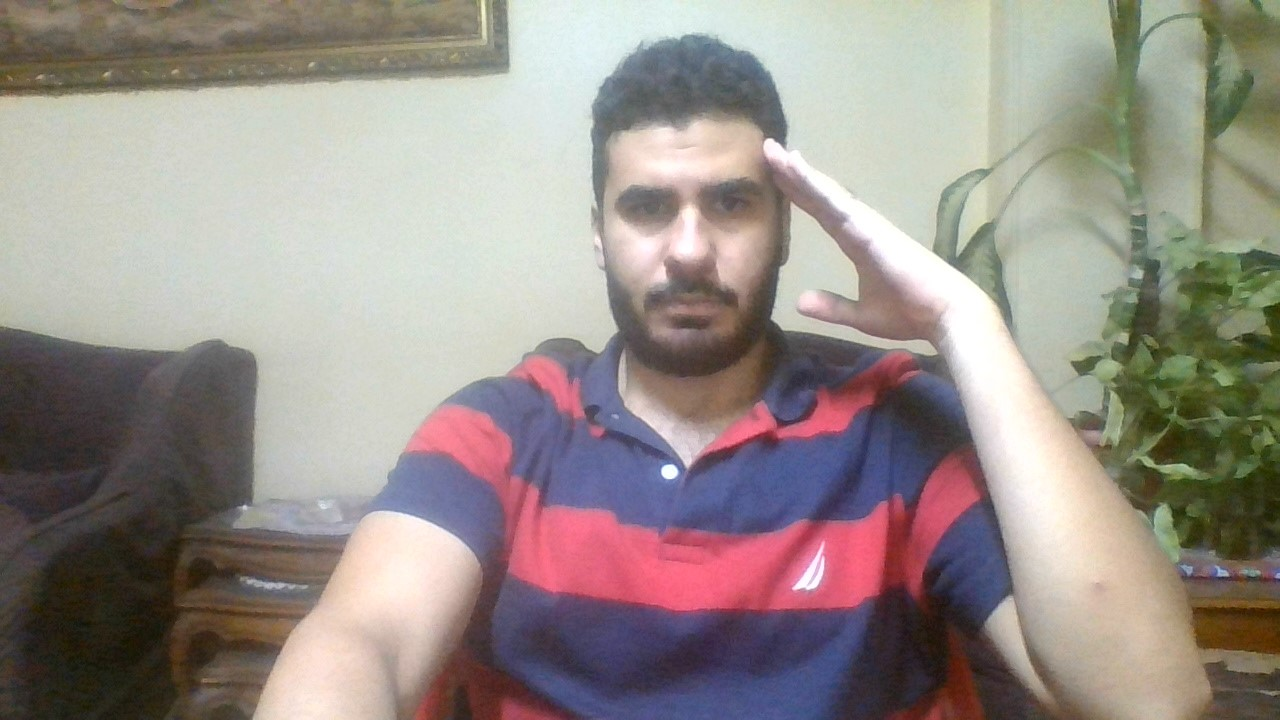hello: (752, 122, 990, 362)
